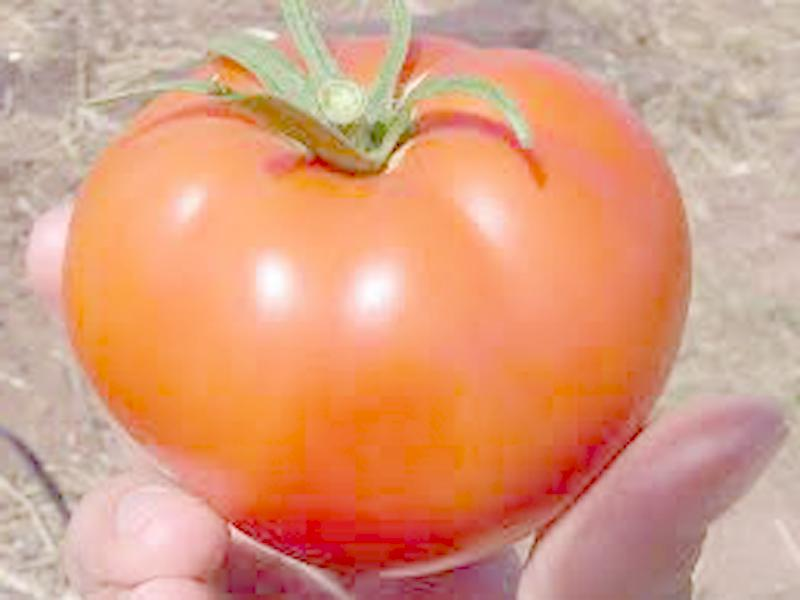Tomato: (64, 37, 682, 569)
